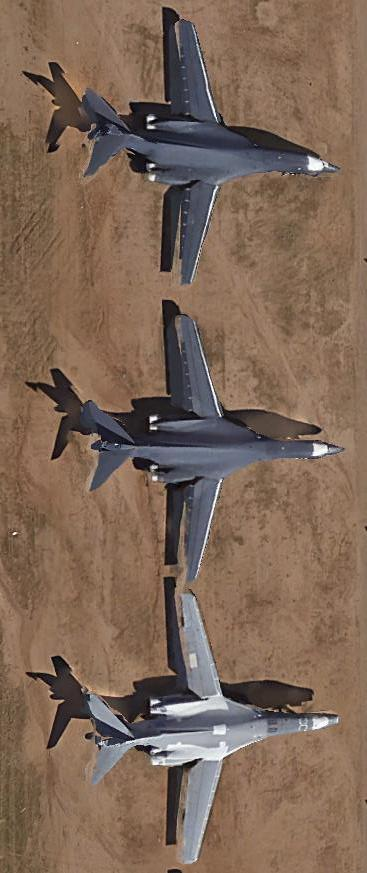B-1B: (78, 308, 353, 588), (74, 10, 345, 291), (78, 588, 345, 869)
